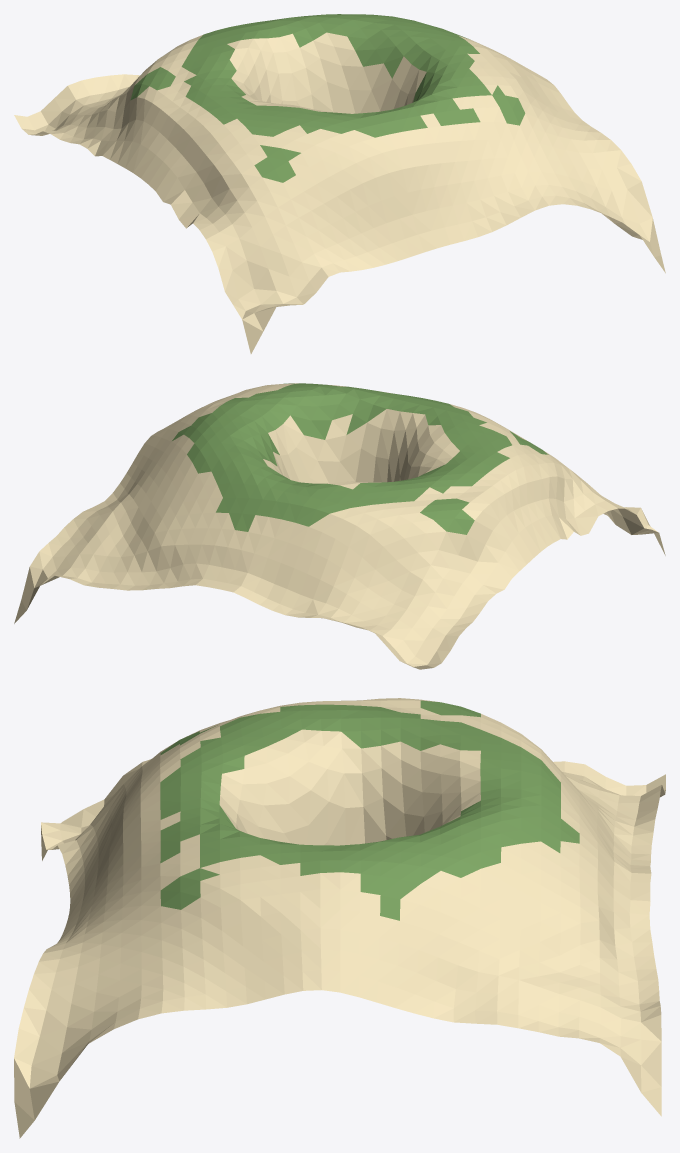
Rendered from Island_2.fbx.
3 views of the same model, one above another, from view 1: azimuth 30°, elevation 25°; view 2: azimuth 150°, elevation 25°; view 3: azimuth 270°, elevation 25° (orthographic). The views are drawn at different scales.
Visible parts, largest first — view 1: Island_2; view 2: Island_2; view 3: Island_2.
Boxes of the visible parts, box(x1,y1,x2,y2) form: Island_2: box(14, 14, 665, 353); Island_2: box(14, 383, 665, 669); Island_2: box(14, 698, 665, 1138).
Bounding box in the file's own units: 4021 × 1562 × 4186.
